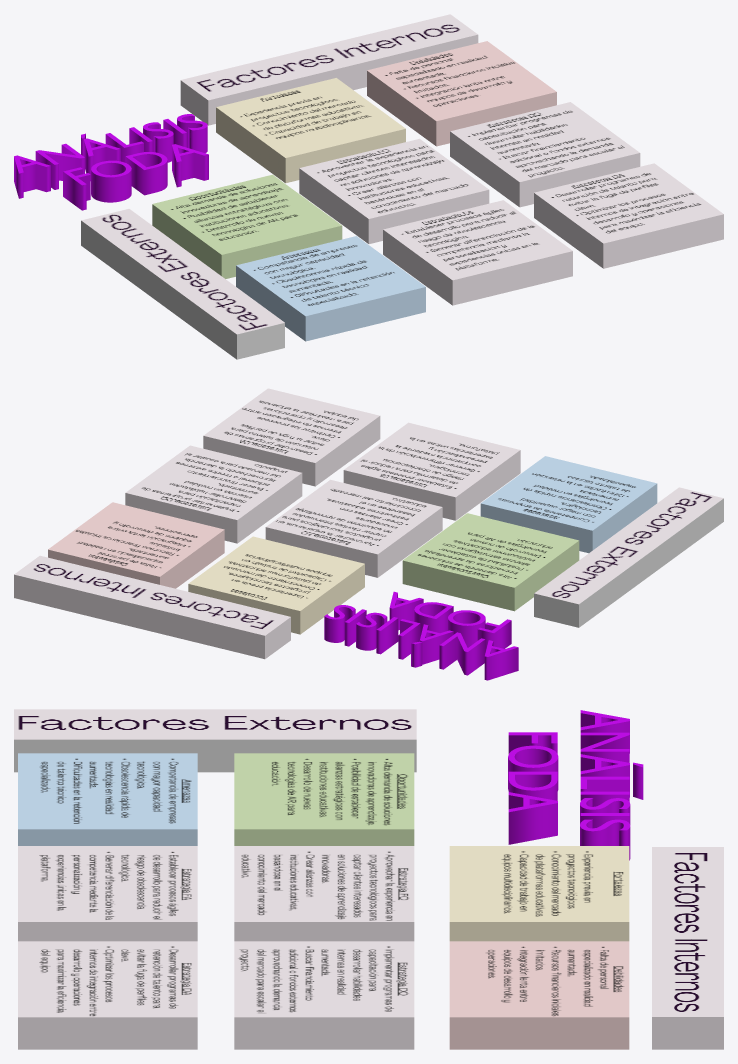
Rendered from primero.glb.
The picture shows the model from 3 angles, top to bottom: view 1: azimuth 30°, elevation 25°; view 2: azimuth 150°, elevation 25°; view 3: azimuth 270°, elevation 25°; orthographic projection. The views are drawn at different scales.
Parts seen in each view (by area): view 1: Cube.006, Cube.005, Cube.007, Cube.010, Cube.004, Cube.003, Cube.001, Cube.002, Cube.008, Factores Internos, Morado; view 2: Factores Internos, Cube.008, Cube.010, Cube.006, Cube.005, Cube.003, Cube.004, Cube.007, Morado, Cube.001, Cube.002; view 3: Cube.002, Cube.003, Cube.006, Cube.010, Cube.004, Cube.001, Cube.005, Cube.008, Cube.007, Factores Internos, Morado.
Part boxes in pixels (x1,y1,x2,y2): Cube.006: [534, 163, 723, 268]; Cube.005: [383, 200, 572, 305]; Cube.007: [236, 236, 425, 341]; Cube.010: [81, 209, 284, 359]; Cube.004: [299, 138, 489, 243]; Cube.003: [450, 102, 640, 207]; Cube.001: [216, 78, 405, 183]; Cube.002: [367, 41, 556, 146]; Cube.008: [152, 174, 342, 278]; Factores Internos: [180, 14, 478, 125]; Morado: [14, 114, 208, 210]; Factores Internos: [14, 555, 290, 659]; Cube.008: [402, 513, 579, 611]; Cube.010: [534, 487, 723, 627]; Cube.006: [203, 388, 380, 486]; Cube.005: [343, 422, 520, 520]; Cube.003: [125, 445, 302, 543]; Cube.004: [265, 479, 442, 577]; Cube.007: [480, 456, 657, 553]; Morado: [324, 591, 518, 680]; Cube.001: [188, 536, 364, 634]; Cube.002: [48, 502, 224, 588]; Cube.002: [449, 941, 629, 1049]; Cube.003: [234, 941, 414, 1049]; Cube.006: [18, 941, 197, 1049]; Cube.010: [14, 709, 416, 772]; Cube.004: [234, 846, 414, 941]; Cube.001: [449, 846, 629, 941]; Cube.005: [18, 846, 197, 941]; Cube.008: [234, 753, 414, 845]; Cube.007: [18, 753, 197, 845]; Factores Internos: [652, 847, 723, 1049]; Morado: [508, 710, 643, 860].
Bounding box in the file's own units: 4.05 × 0.2 × 3.95.
21 materials, 10 textured.
